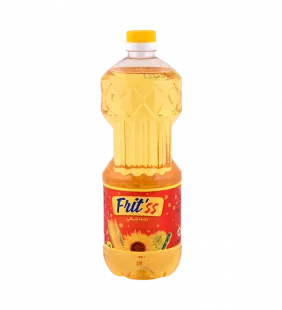Promotion: (92, 20, 189, 291)
